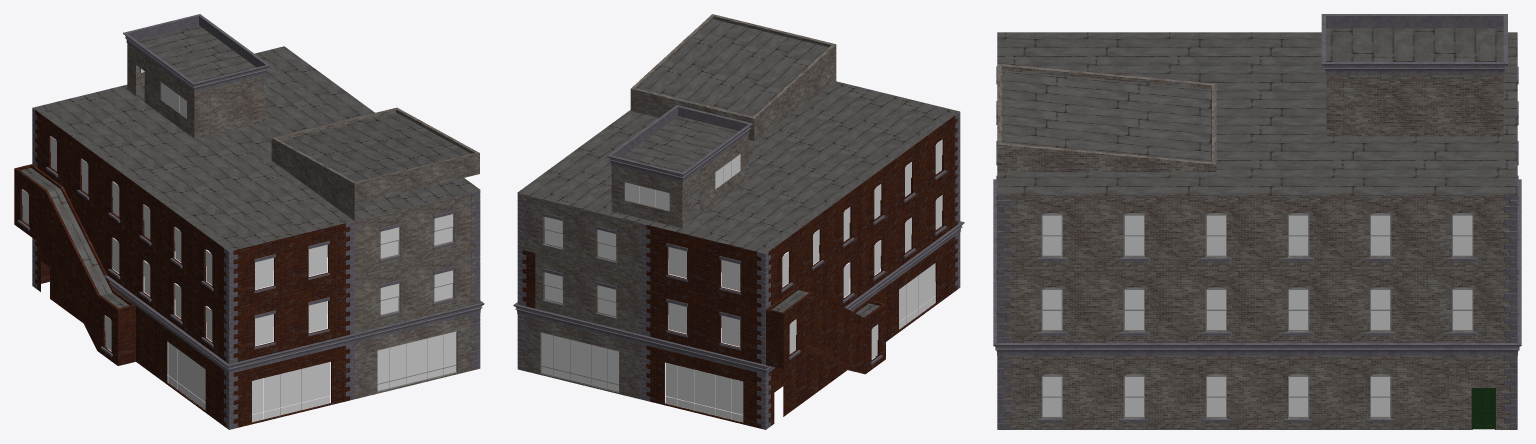
Rendered from Building_11.fbx.
3 views of the same model, side by side, from view 1: azimuth 30°, elevation 25°; view 2: azimuth 150°, elevation 25°; view 3: azimuth 270°, elevation 25° (orthographic). The views are drawn at different scales.
Parts seen in each view (by area): view 1: Building_11_LOD2; view 2: Building_11_LOD2; view 3: Building_11_LOD2.
Part boxes in pixels (bbox=[...]): Building_11_LOD2: bbox=[14, 14, 484, 429]; Building_11_LOD2: bbox=[513, 14, 964, 429]; Building_11_LOD2: bbox=[993, 14, 1521, 429].
Size of the model in its own units: 1860 by 1524 by 2355.
